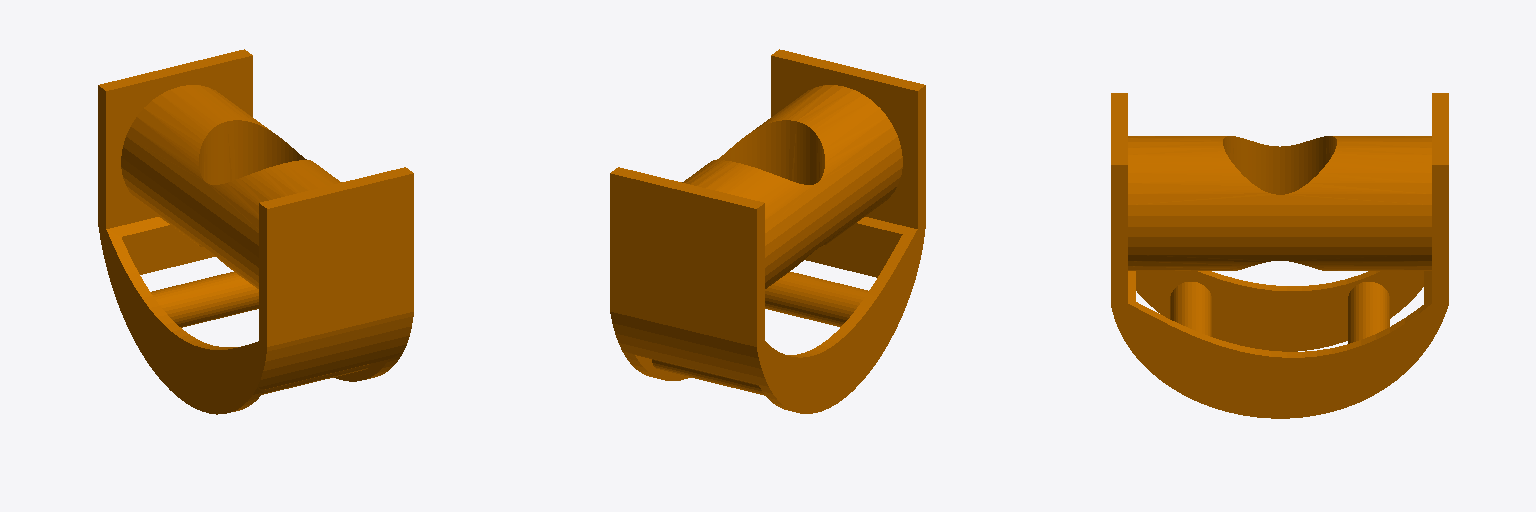
Rendered from l_steer.obj.
3 renders of one model, left to right at view 1: azimuth 30°, elevation 25°; view 2: azimuth 150°, elevation 25°; view 3: azimuth 270°, elevation 25°, orthographic.
Visible parts, largest first — view 1: viper_L_steer; view 2: viper_L_steer; view 3: viper_L_steer.
Boxes of the visible parts, x1,y1,x2,y2 form: viper_L_steer: [98, 49, 413, 414]; viper_L_steer: [610, 49, 925, 413]; viper_L_steer: [1111, 93, 1448, 418].
Bounding box in the file's own units: 0.1 × 0.1652 × 0.2.